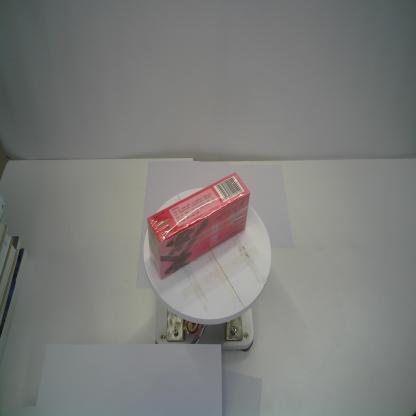Instant Drink: (147, 173, 250, 279)
